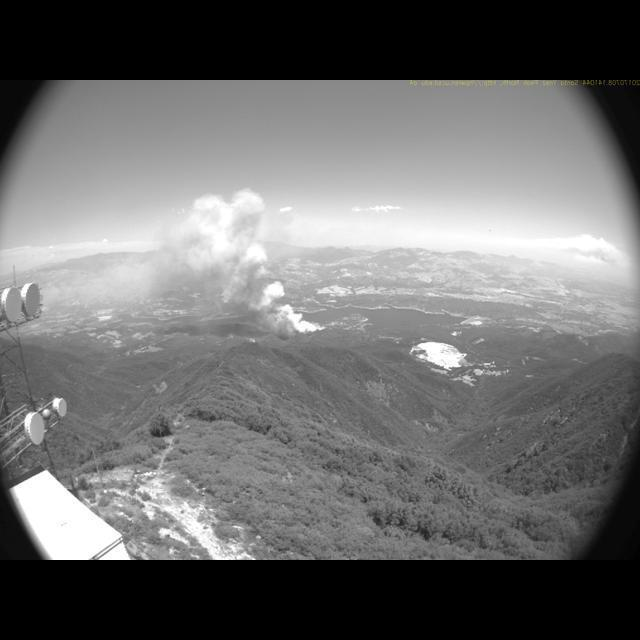Smoke: (75, 185, 329, 338)
